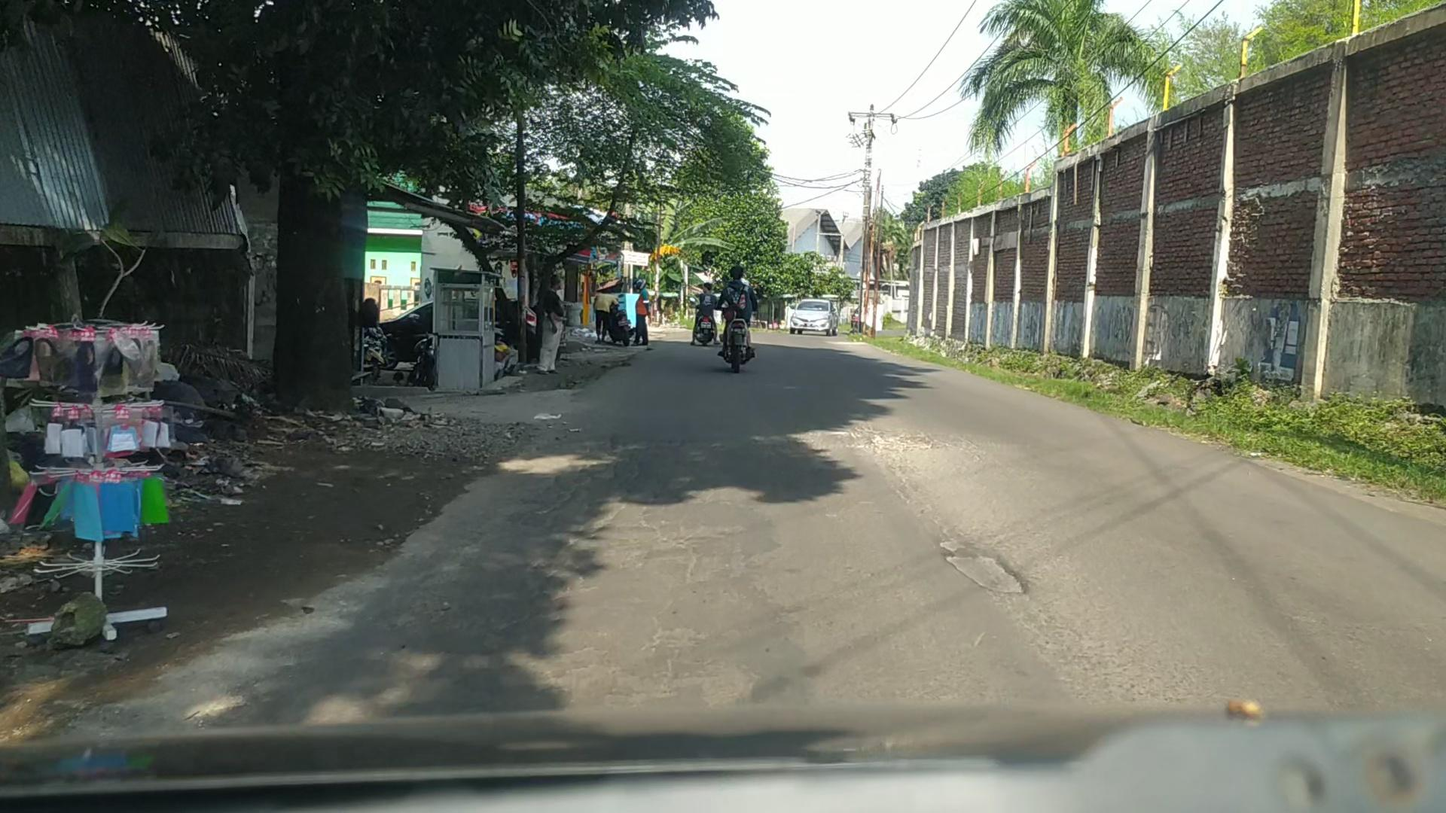pothole: (944, 549, 1033, 597)
